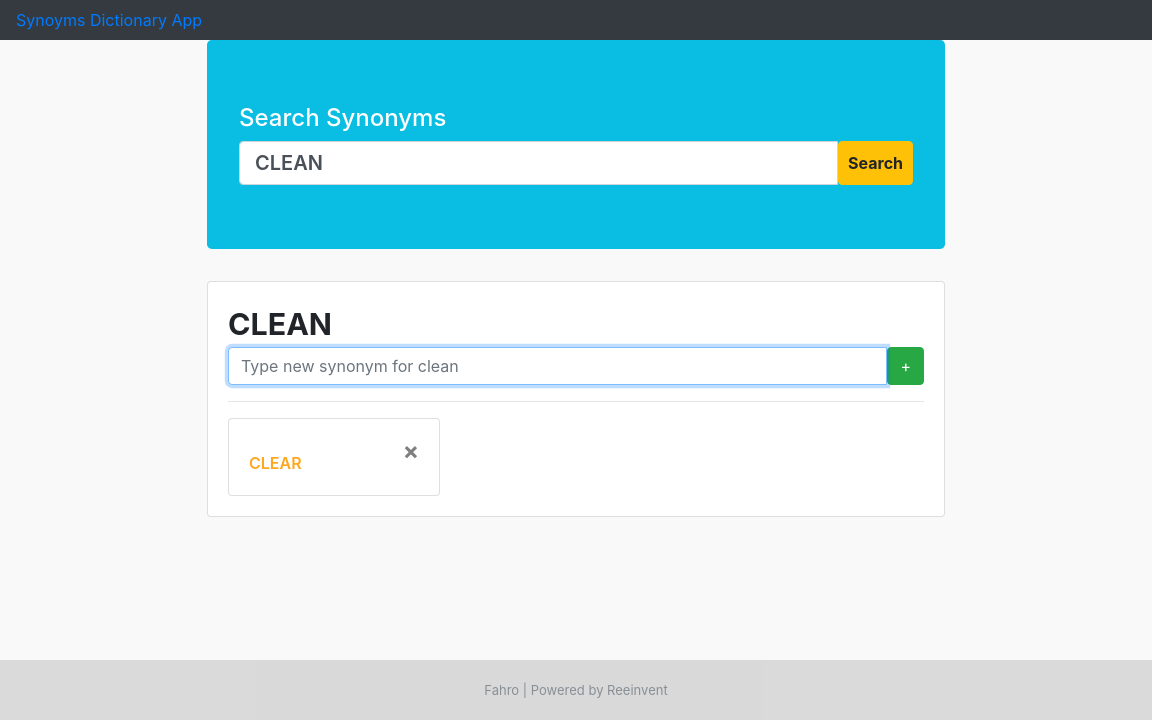
it: <App/> › Adding synonyms › Adding more synonyms, it displays all synonyms
In the field with class "synonym-input": x=558, y=366 [228,347,887,385], type "blank"
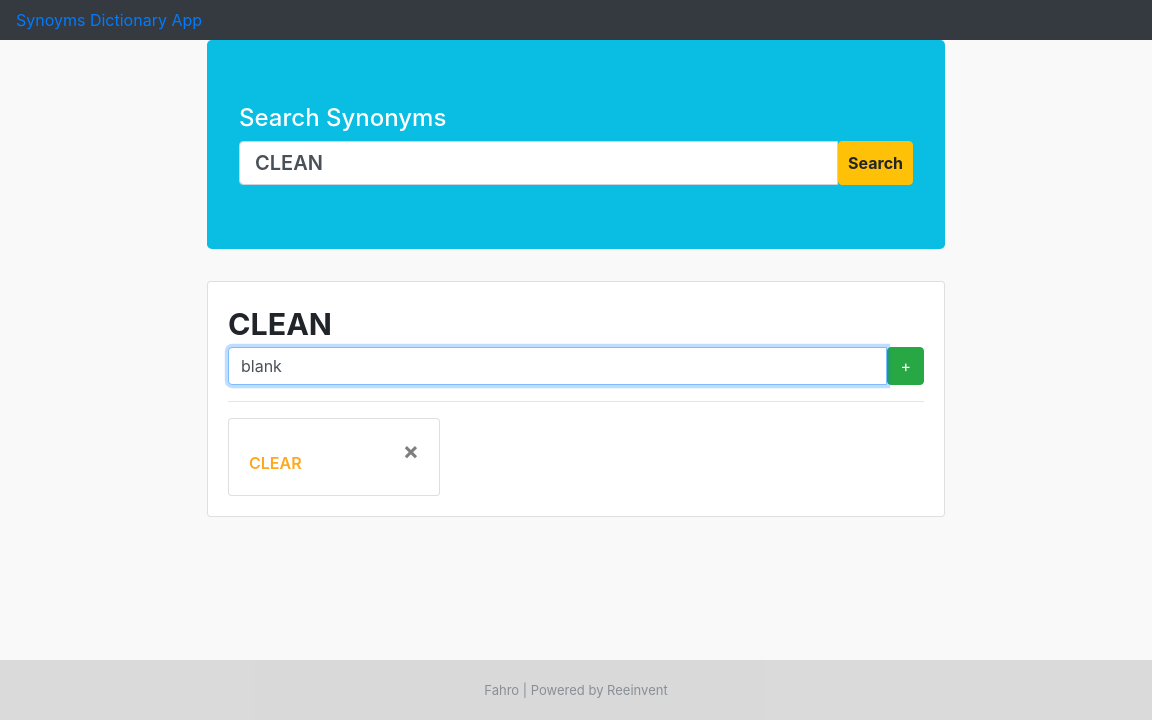
Click the button with class "btn-success": x=906, y=366 [887,347,924,385]
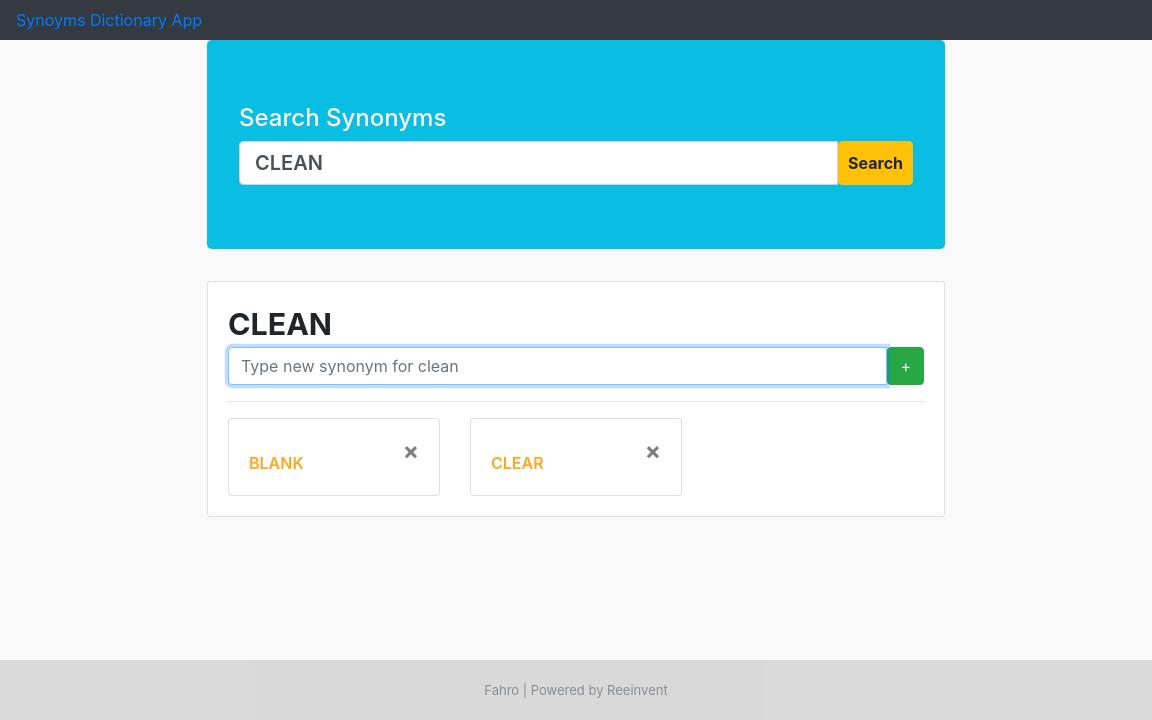
Expected: the text "clear" is shown, [491,453,544,473]
Result: the number of elements with class "synonym-text" is 2 at [249,453,304,473]; [491,453,544,473]
Result: the text "blank" is shown at [249,453,304,473]
